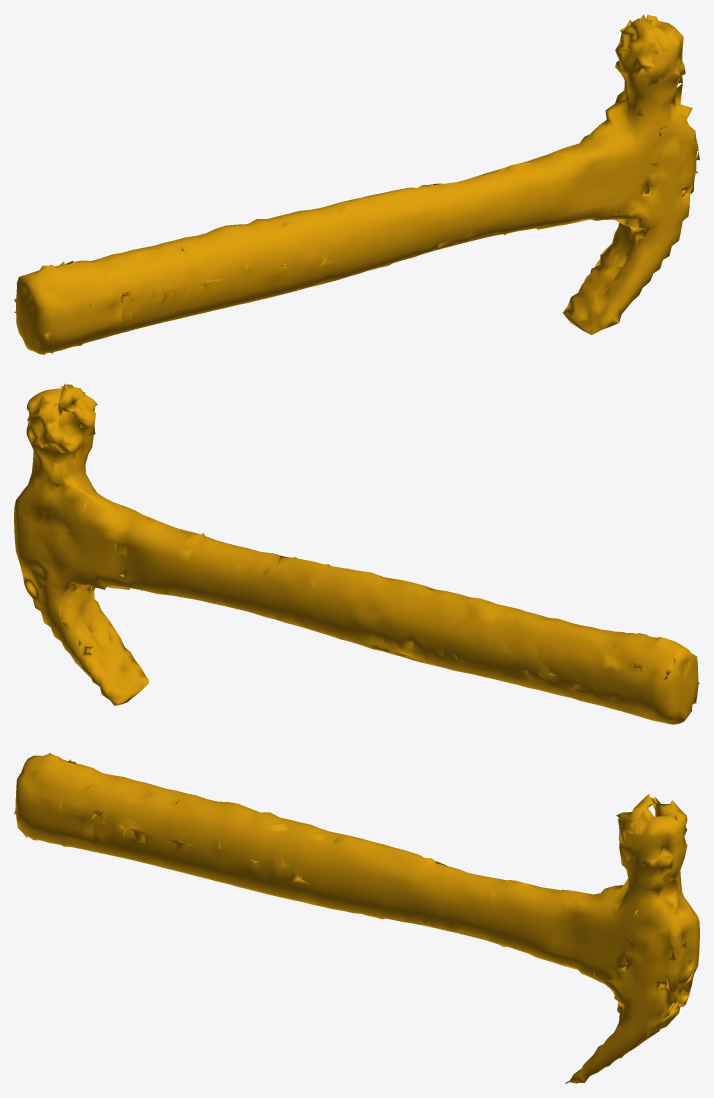
The model's file is model_origin.obj.
3 renders of one model, top to bottom at view 1: azimuth 30°, elevation 25°; view 2: azimuth 150°, elevation 25°; view 3: azimuth 330°, elevation 25°, orthographic.
Bounding box in the file's own units: 1.03 × 0.4422 × 0.0988.
